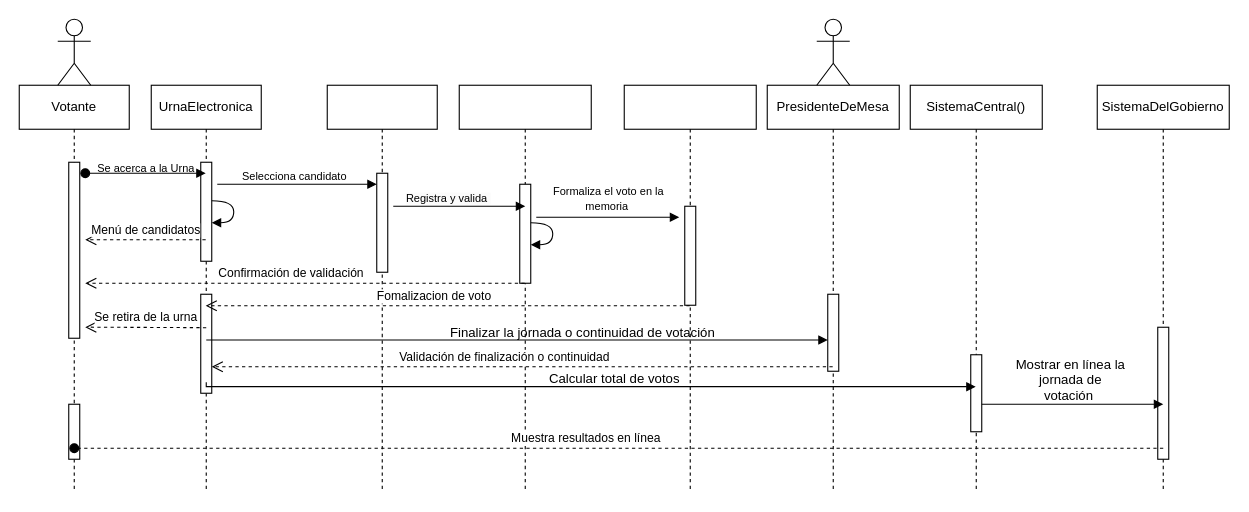
Image size: 1249x512. Some labels were removed from this diagram. The shapes that lost their labels are listed below. From the top down, each one's box as (x1, y1, x2, y2) in pixels, then its label:
(326, 84, 437, 492): SelecionCandidato
(458, 84, 591, 492): RegistroYvalidacion()
(623, 84, 756, 492): GuardarVoto()
